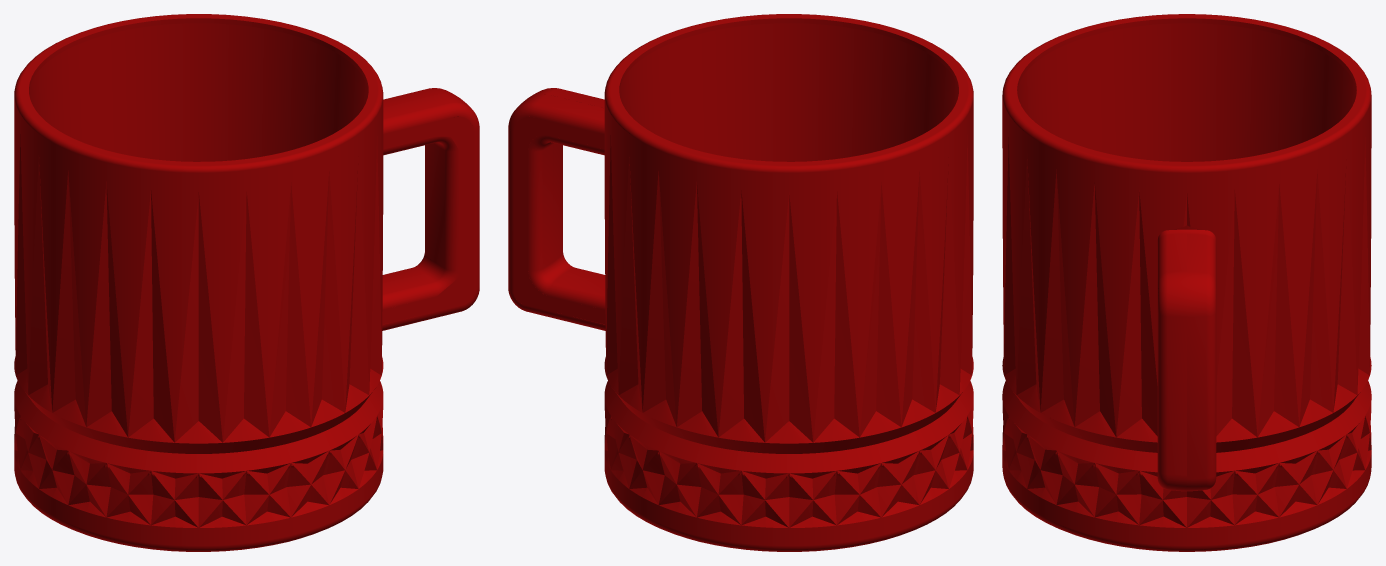
The model's file is CM-MUG047A.glb.
3 views of the same model, side by side, from view 1: azimuth 30°, elevation 25°; view 2: azimuth 150°, elevation 25°; view 3: azimuth 270°, elevation 25° (orthographic).
Size of the model in its own units: 0.0851 by 0.073 by 0.063.
